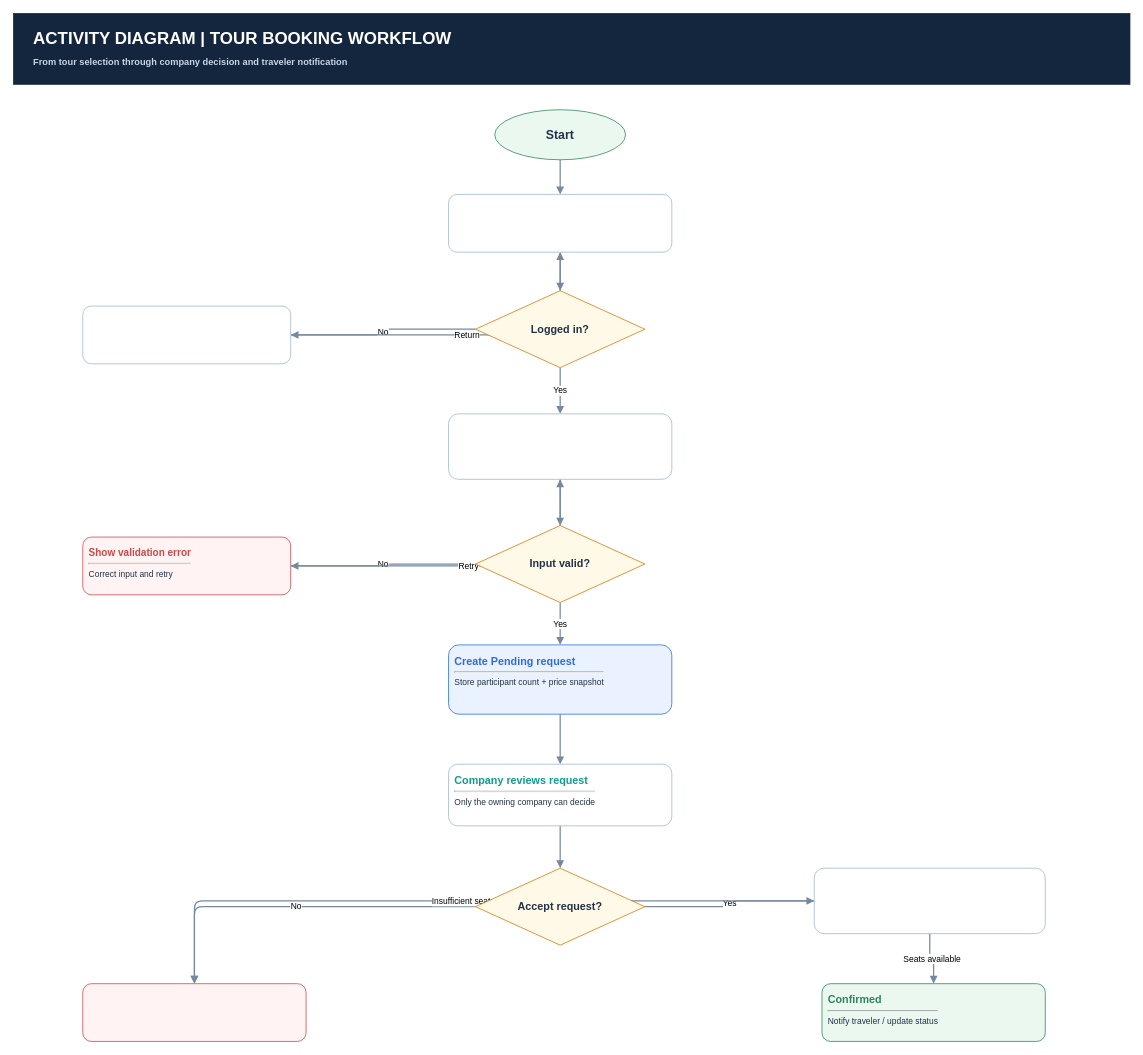
The diagram is 1143 pixels wide and 1055 high, and some of its shapes have lost their labels. Each missing label, with the centre of its shape:
"Check remaining capacity Perform safe transactional update" goes at point 929,900.
"Register / Login Return to selected tour" goes at point 186,334.
"Rejected / Cancelled Update status and notify traveler" goes at point 194,1012.
"Select tour & departure Choose participant count" goes at point 560,223.
"Validate booking input Positive count • valid departure" goes at point 560,446.
